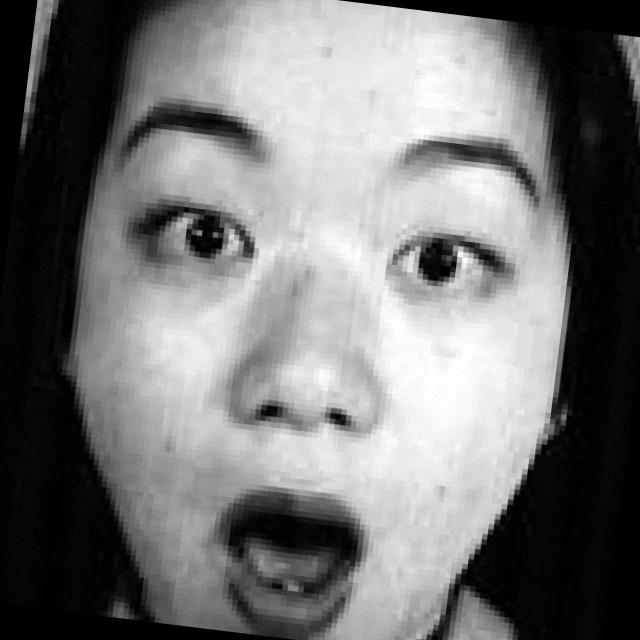surprise: (39, 0, 597, 640)
